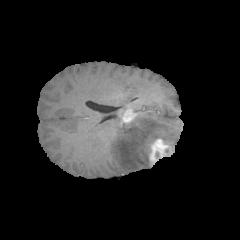glioma: (109, 110, 175, 171)
